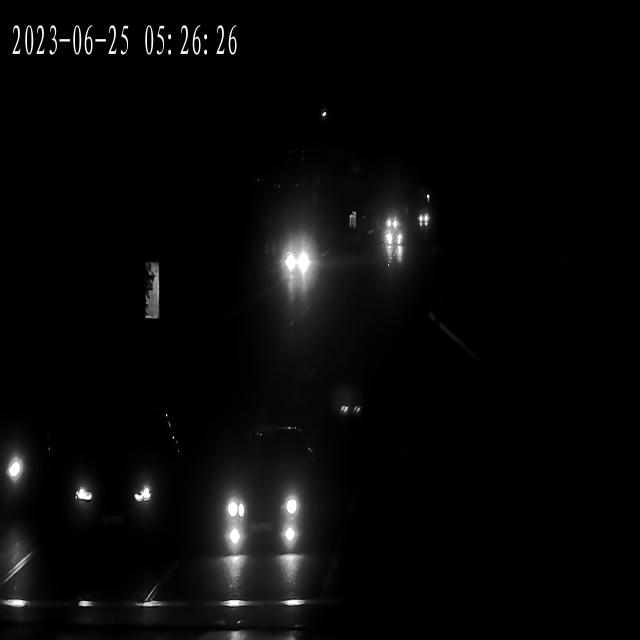Car: (71, 400, 178, 554), (222, 425, 313, 562), (0, 396, 49, 501), (282, 237, 316, 290), (386, 233, 404, 255), (418, 212, 431, 234), (389, 215, 399, 232)
